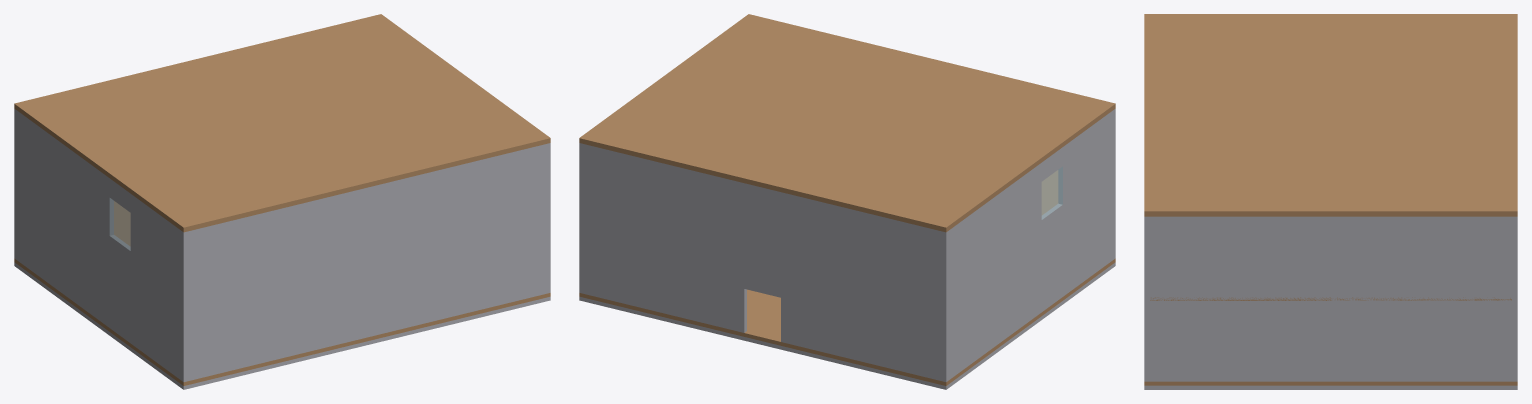
The model's file is library.glb.
3 renders of one model, left to right at view 1: azimuth 30°, elevation 25°; view 2: azimuth 150°, elevation 25°; view 3: azimuth 270°, elevation 25°, orthographic. The views are drawn at different scales.
Visible parts, largest first — view 1: roof, north_wall, east_wall_south, east_wall_north, foundation, ground_floor, east_window_sill, east_bay_glass, upper_floor_east_edge; view 2: roof, south_wall_right, south_wall_left, east_wall_south, east_wall_north, south_door_lintel, ground_floor, foundation, east_window_sill, east_bay_glass, upper_floor_east_north; view 3: roof, west_wall, foundation, ground_floor, south_wall_left, north_wall, upper_floor_west.
Boxes of the visible parts, x1,y1,x2,y2 form: roof: [14, 14, 550, 232]; north_wall: [181, 143, 550, 381]; east_wall_south: [16, 110, 113, 327]; east_wall_north: [130, 194, 180, 379]; foundation: [14, 262, 550, 389]; ground_floor: [14, 258, 550, 385]; east_window_sill: [109, 235, 130, 342]; east_bay_glass: [109, 198, 130, 250]; upper_floor_east_edge: [114, 207, 130, 245]; roof: [579, 14, 1115, 232]; south_wall_right: [781, 192, 948, 381]; south_wall_left: [579, 143, 746, 332]; east_wall_south: [949, 163, 1041, 379]; east_wall_north: [1058, 110, 1113, 296]; south_door_lintel: [744, 183, 780, 297]; ground_floor: [579, 258, 1115, 385]; foundation: [579, 262, 1115, 389]; east_window_sill: [1041, 204, 1062, 311]; east_bay_glass: [1041, 166, 1062, 219]; upper_floor_east_north: [1042, 170, 1057, 214]; roof: [1144, 14, 1517, 216]; west_wall: [1150, 216, 1511, 381]; foundation: [1144, 385, 1517, 389]; ground_floor: [1144, 381, 1517, 385]; south_wall_left: [1512, 216, 1517, 381]; north_wall: [1144, 216, 1149, 381]; upper_floor_west: [1150, 297, 1511, 300].
Size of the model in its own units: 20 by 8.45 by 16.
